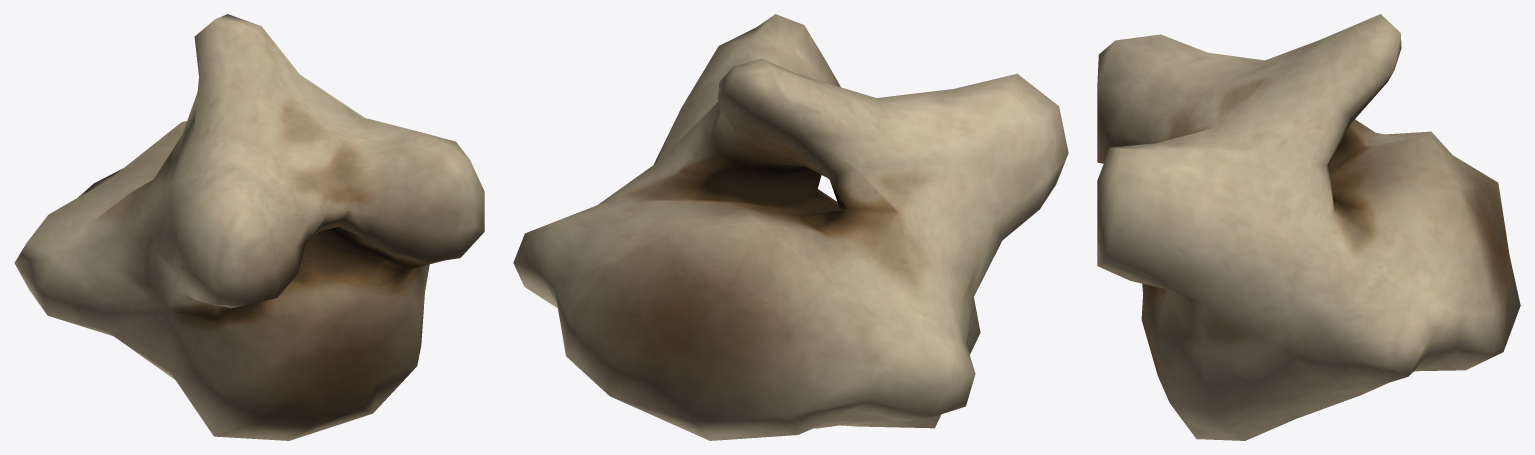
Rendered from Caudal_Vertebrae3.glb.
3 views of the same model, side by side, from view 1: azimuth 30°, elevation 25°; view 2: azimuth 150°, elevation 25°; view 3: azimuth 270°, elevation 25° (orthographic). The views are drawn at different scales.
Visible parts, largest first — view 1: Caudal_Vertebrae_22:Group37173; view 2: Caudal_Vertebrae_22:Group37173; view 3: Caudal_Vertebrae_22:Group37173.
Part boxes in pixels (x1=…): Caudal_Vertebrae_22:Group37173: x1=14, y1=14, x2=484, y2=440; Caudal_Vertebrae_22:Group37173: x1=513, y1=14, x2=1068, y2=440; Caudal_Vertebrae_22:Group37173: x1=1097, y1=14, x2=1520, y2=440.
Size of the model in its own units: 15.52 by 13.78 by 13.12.
1 material, 1 textured.
